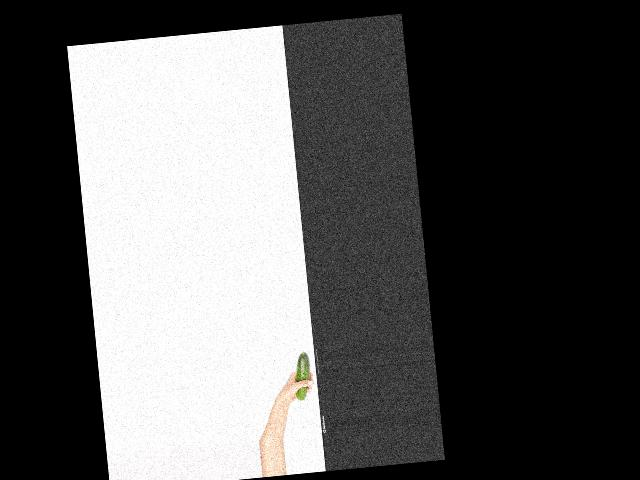cucumber: (292, 351, 313, 400)
